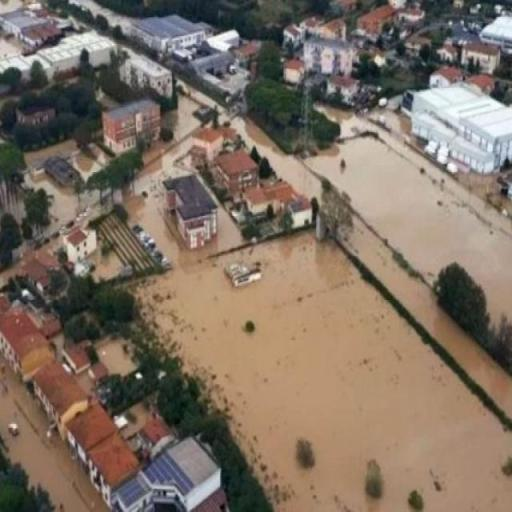flood: (140, 233, 512, 512), (306, 96, 512, 320), (347, 220, 512, 417), (122, 81, 248, 268), (0, 355, 109, 512), (224, 114, 321, 198), (24, 139, 79, 234), (88, 338, 136, 381), (89, 241, 125, 282)
house: (410, 85, 511, 184), (114, 430, 229, 512), (72, 406, 144, 498), (166, 169, 221, 250), (101, 98, 160, 158), (34, 358, 89, 422), (137, 12, 211, 58), (2, 306, 48, 379), (122, 52, 169, 106), (40, 31, 110, 67), (214, 148, 259, 200), (302, 32, 354, 76), (6, 8, 58, 44), (461, 38, 504, 78), (63, 229, 101, 261), (289, 197, 314, 228)
